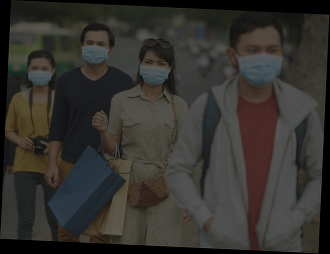with_mask: (234, 42, 282, 90), (140, 58, 170, 87), (81, 38, 109, 67), (26, 64, 53, 87)
